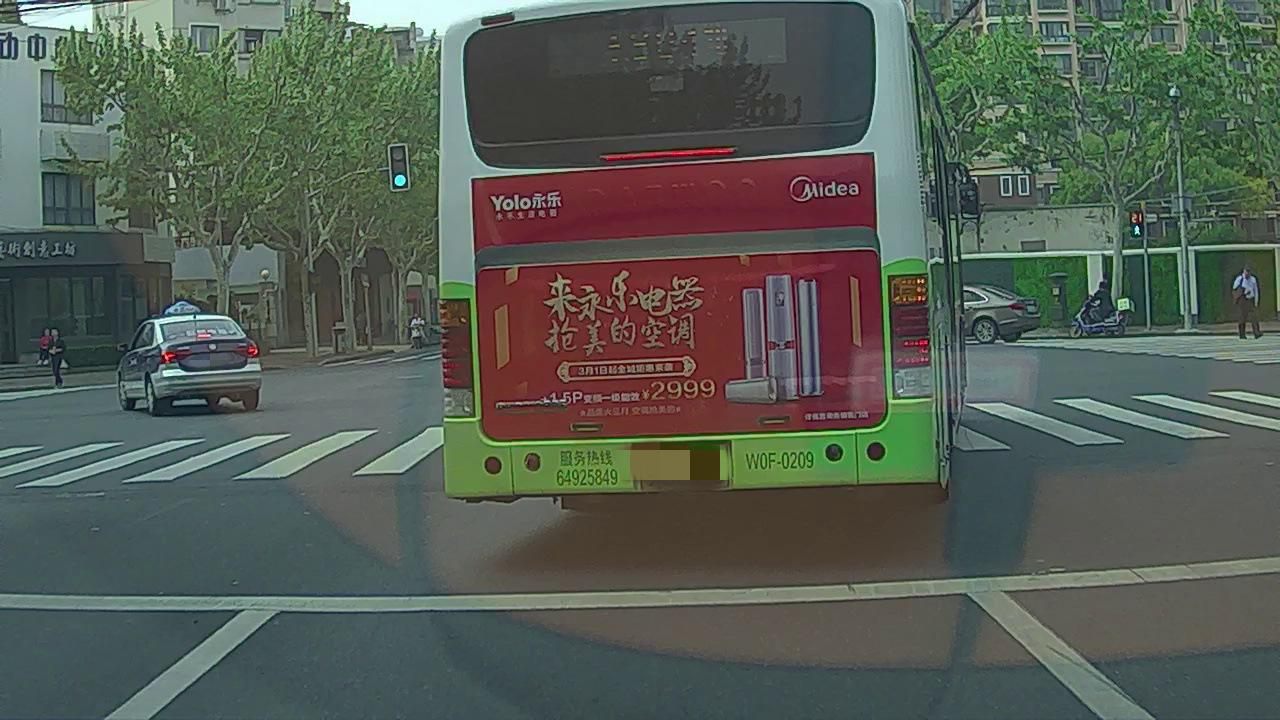traffic_light: (391, 147, 407, 188)
